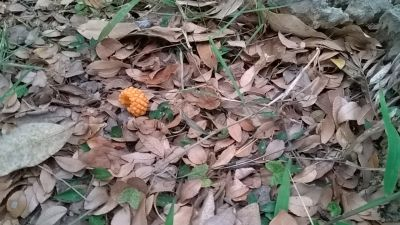eggs: (119, 86, 149, 117)
